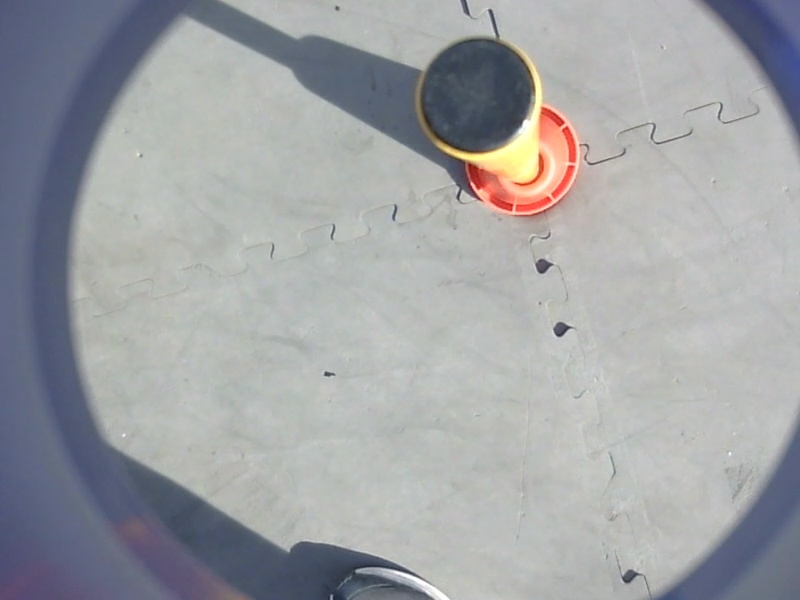tip: (410, 32, 550, 168)
